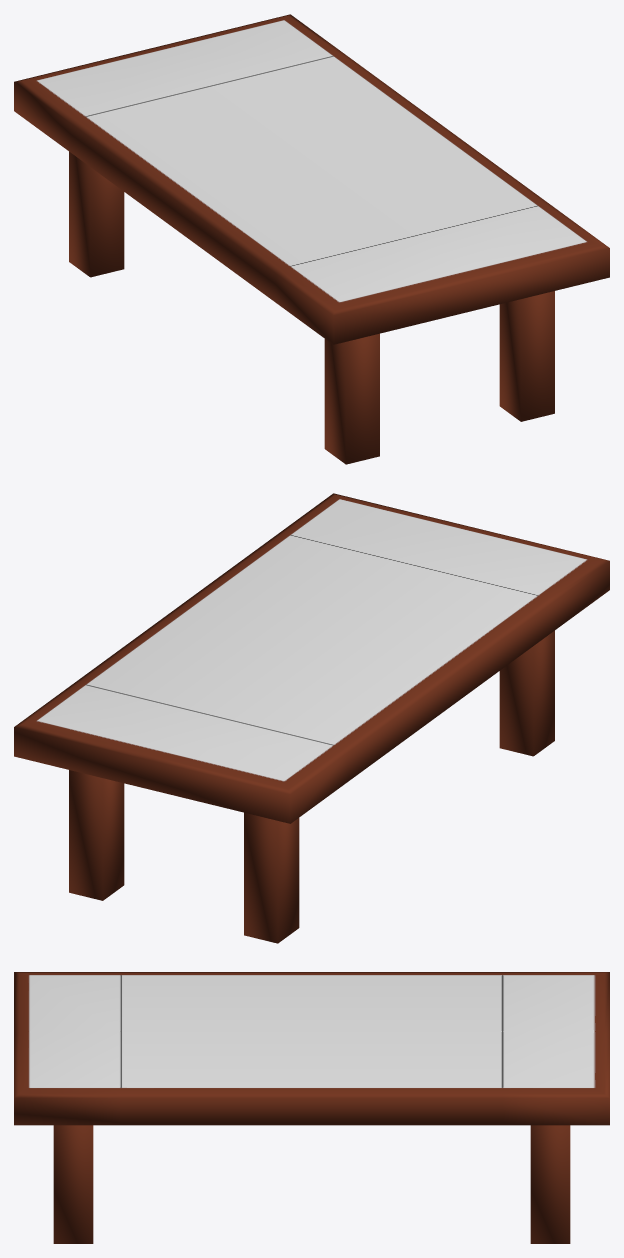
The model's file is nesTable.glb.
3 views of the same model, one above another, from view 1: azimuth 30°, elevation 25°; view 2: azimuth 150°, elevation 25°; view 3: azimuth 270°, elevation 25° (orthographic). The views are drawn at different scales.
Visible parts, largest first — view 1: nesTable; view 2: nesTable; view 3: nesTable.
Boxes of the visible parts, x1,y1,x2,y2 form: nesTable: (14,14,609,464); nesTable: (14,493,609,943); nesTable: (14,972,609,1243).
Size of what is drawn, in the model's own units: 3 by 1.83 by 6.
1 material, 1 textured.
